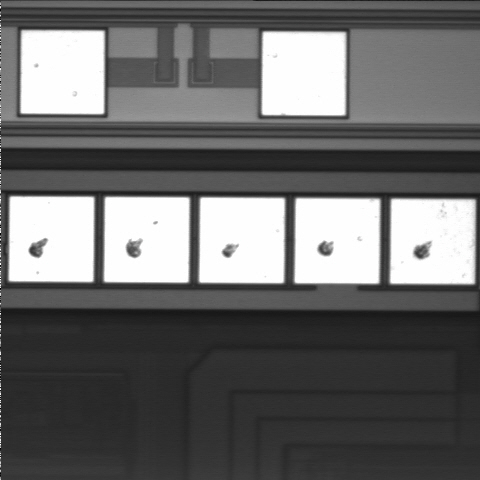pad: (199, 198, 285, 283), (9, 197, 94, 282), (104, 197, 189, 282), (295, 198, 380, 283), (390, 199, 475, 284), (262, 32, 346, 115), (21, 31, 104, 114)
